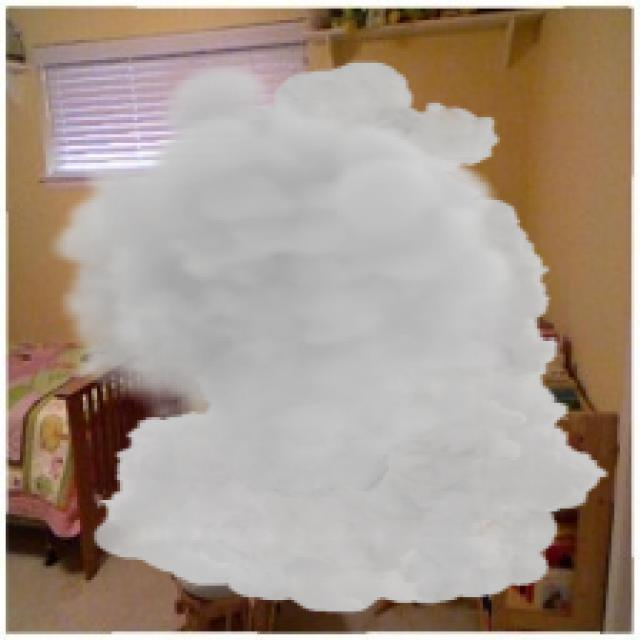Smoke: (49, 60, 612, 614)
